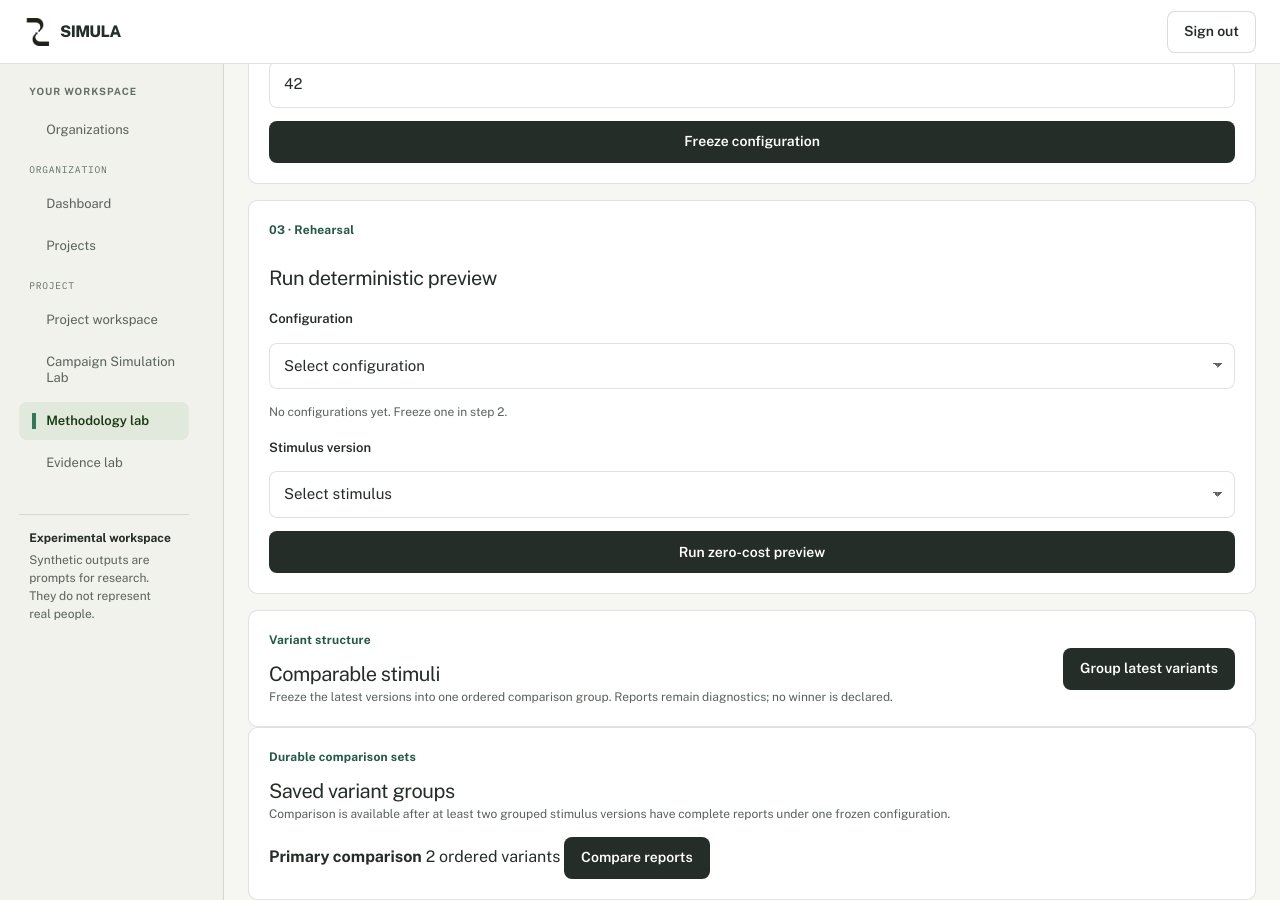
Test: MethodologyWorkspace durable comparison › renders a truthful empty comparison after a compatible query
(page scrolled)
Expected: the heading "Saved variant groups" is shown, [269,779,454,803]
Click the button "Compare reports": point(637, 858) [564,837,710,879]
(page scrolled)
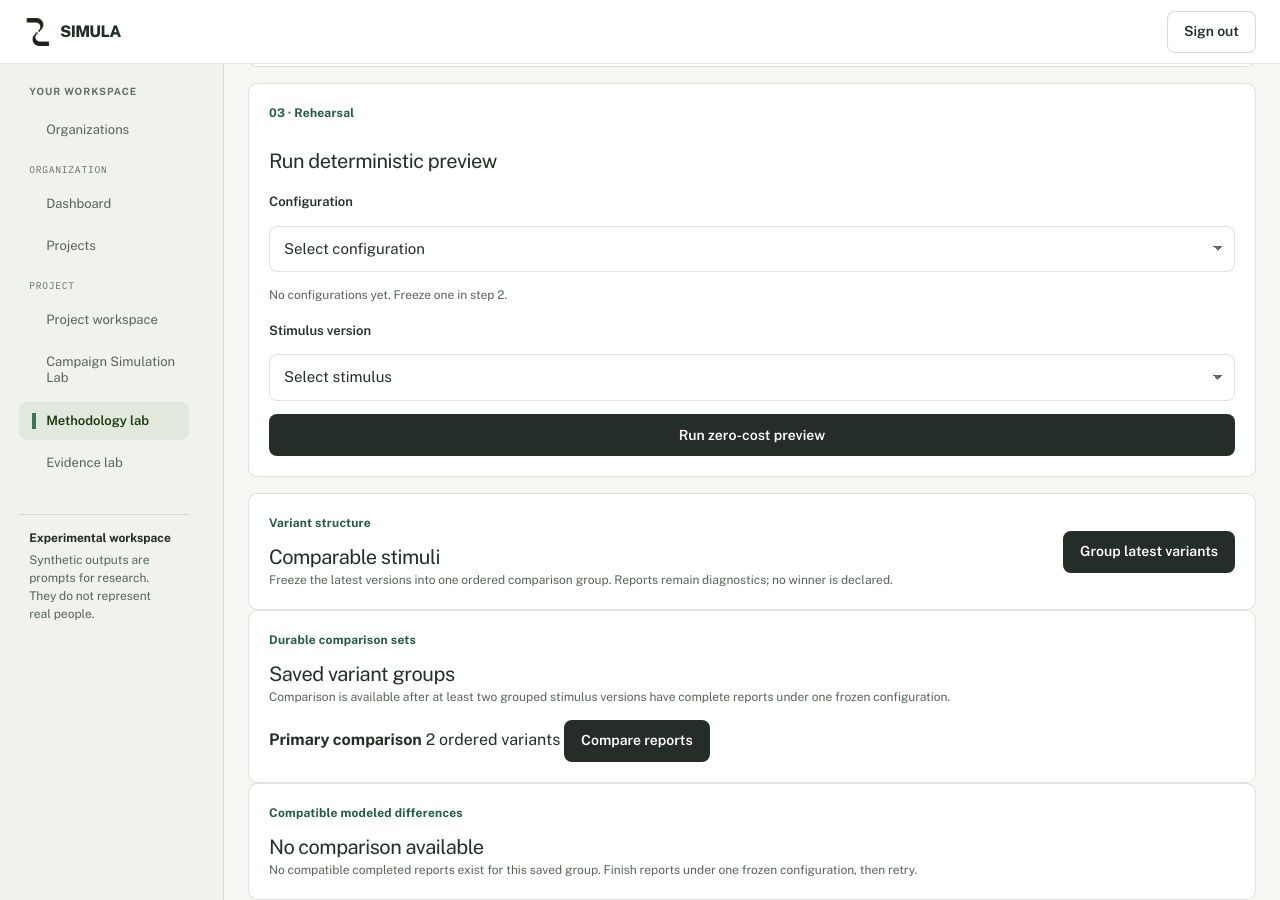
Result: the heading "No comparison available" is shown at [269,835,484,859]
Result: the text "No compatible completed reports exist" is shown at [269,863,917,877]
